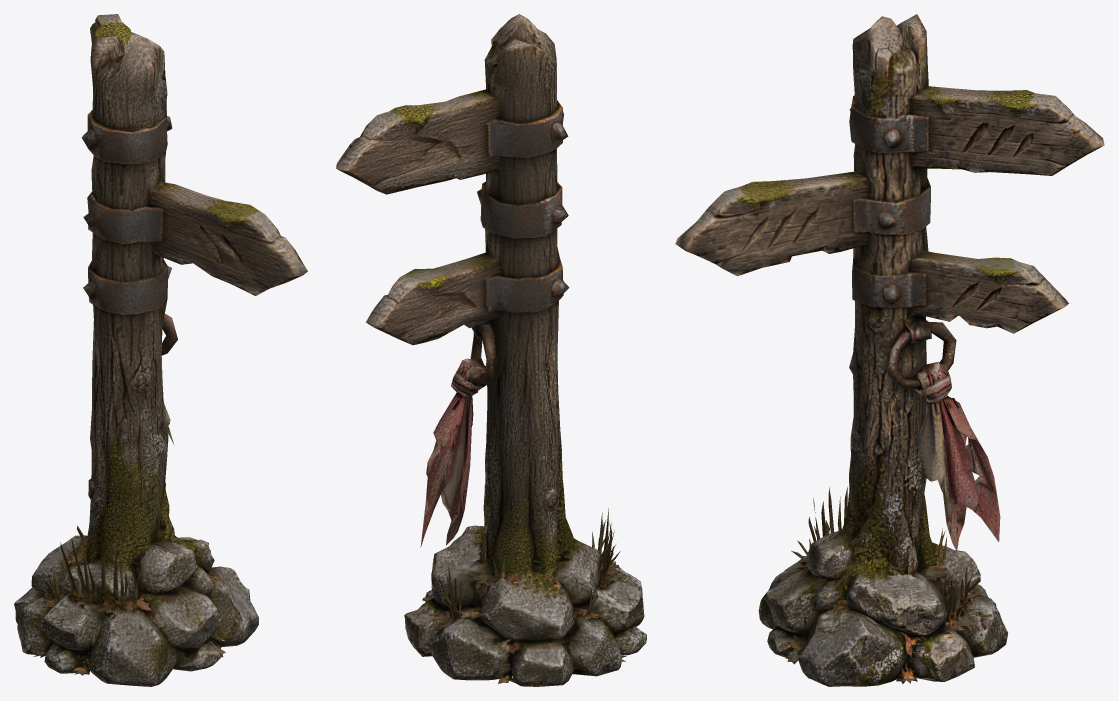
File: signpost.glb
The picture shows the model from 3 angles, left to right: view 1: azimuth 30°, elevation 25°; view 2: azimuth 150°, elevation 25°; view 3: azimuth 270°, elevation 25°; orthographic projection. The views are drawn at different scales.
Parts seen in each view (by area): view 1: tripo_node_28ce078a-52b6-4edc-9e76-d991da635a61; view 2: tripo_node_28ce078a-52b6-4edc-9e76-d991da635a61; view 3: tripo_node_28ce078a-52b6-4edc-9e76-d991da635a61.
Boxes of the visible parts, bbox=[...] form: tripo_node_28ce078a-52b6-4edc-9e76-d991da635a61: bbox=[14, 14, 307, 686]; tripo_node_28ce078a-52b6-4edc-9e76-d991da635a61: bbox=[336, 14, 646, 686]; tripo_node_28ce078a-52b6-4edc-9e76-d991da635a61: bbox=[675, 14, 1104, 686].
Size of the model in its own units: 0.341 by 0.9786 by 0.611.
1 material, 1 textured.
